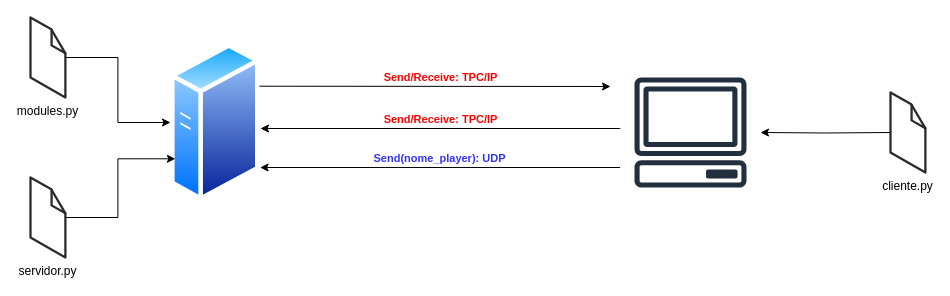
Some shapes in this 950 by 296 pixel diagram are drawn without their labels. The shapes that lost their labels are listed below. From the top down, each one's centre as x and y in pixels, then its label:
At [215,122]: "Server".
At [690,132]: "Client".
